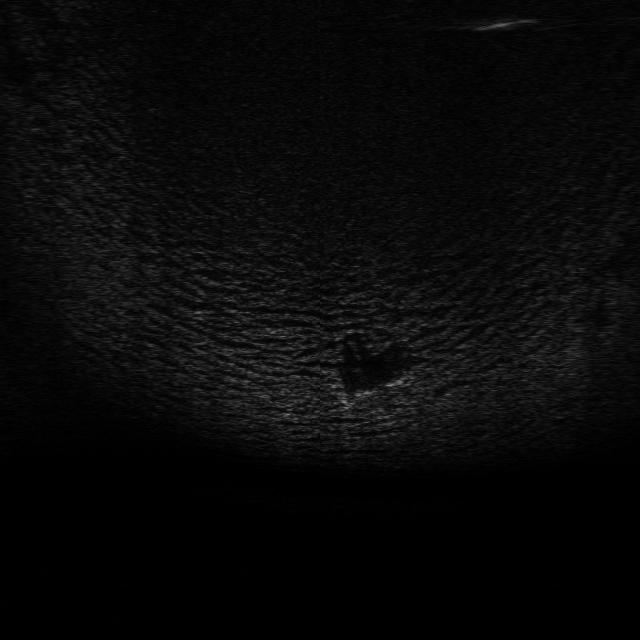plane: (339, 373, 408, 411)
